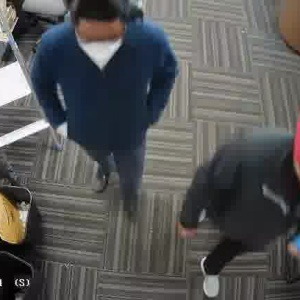person: (44, 7, 164, 204), (187, 124, 299, 289)
